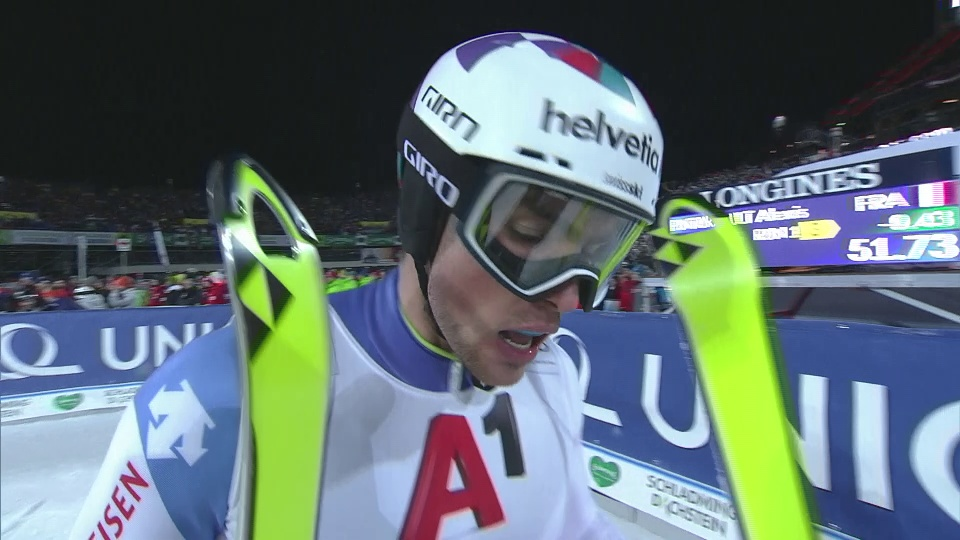a1: (406, 395, 534, 536)
longines: (704, 167, 888, 196)
schladming: (646, 476, 732, 532)
steiermark: (585, 455, 624, 491), (51, 391, 89, 415)
uniqa: (546, 320, 960, 493), (1, 302, 221, 386)
